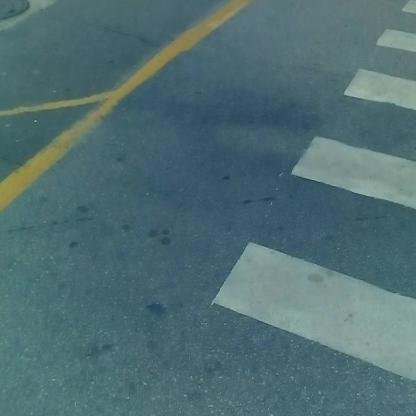crosswalk: (241, 8, 416, 394)
